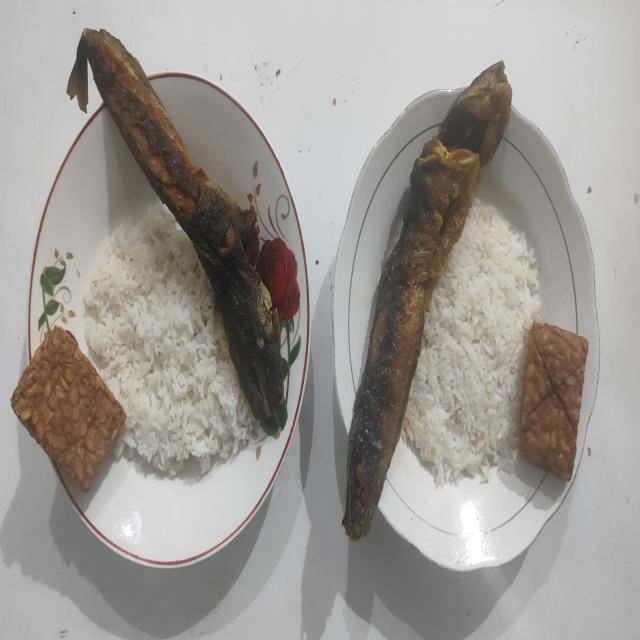nasi_putih: (84, 206, 257, 477), (402, 199, 540, 486)
tempe_goreng: (11, 326, 126, 492), (519, 322, 588, 480)
